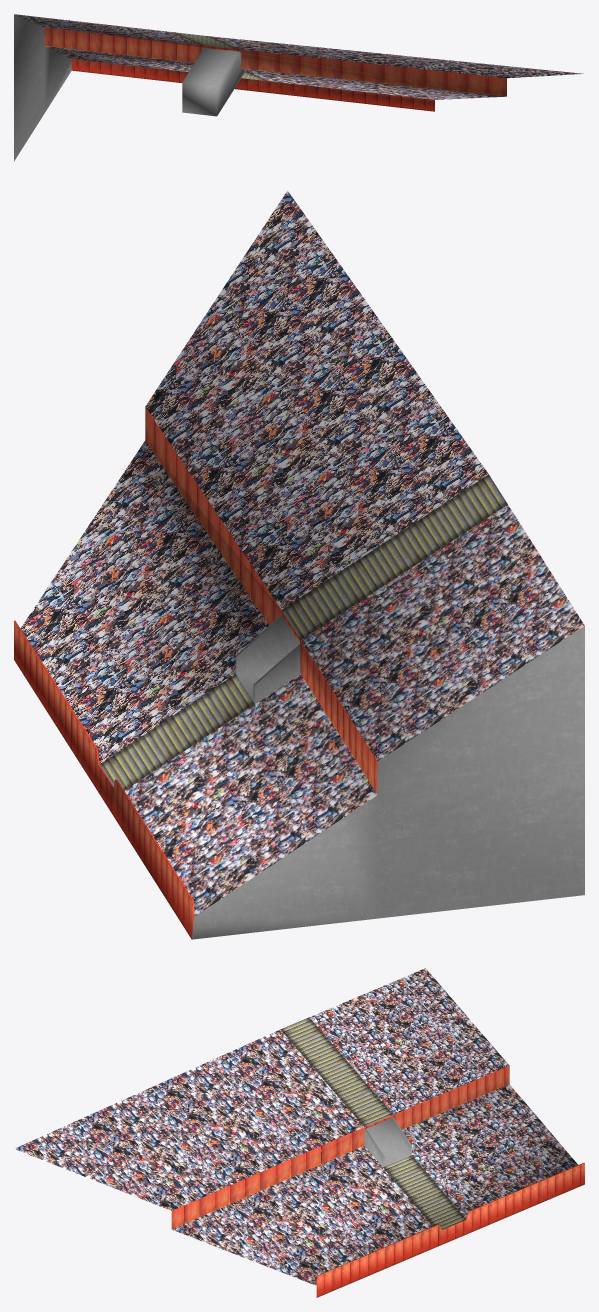
File: tribune_corner_upper_02.fbx
3 views of the same model, one above another, from view 1: azimuth 30°, elevation 25°; view 2: azimuth 150°, elevation 25°; view 3: azimuth 270°, elevation 25° (orthographic). The views are drawn at different scales.
Visible parts, largest first — view 1: Cube_009; view 2: Cube_009; view 3: Cube_009.
Boxes of the visible parts, box(x1,y1,x2,y2) form: Cube_009: box(14, 14, 583, 161); Cube_009: box(14, 190, 584, 939); Cube_009: box(14, 968, 584, 1297).
Size of the model in its own units: 62.44 by 24 by 83.34.
